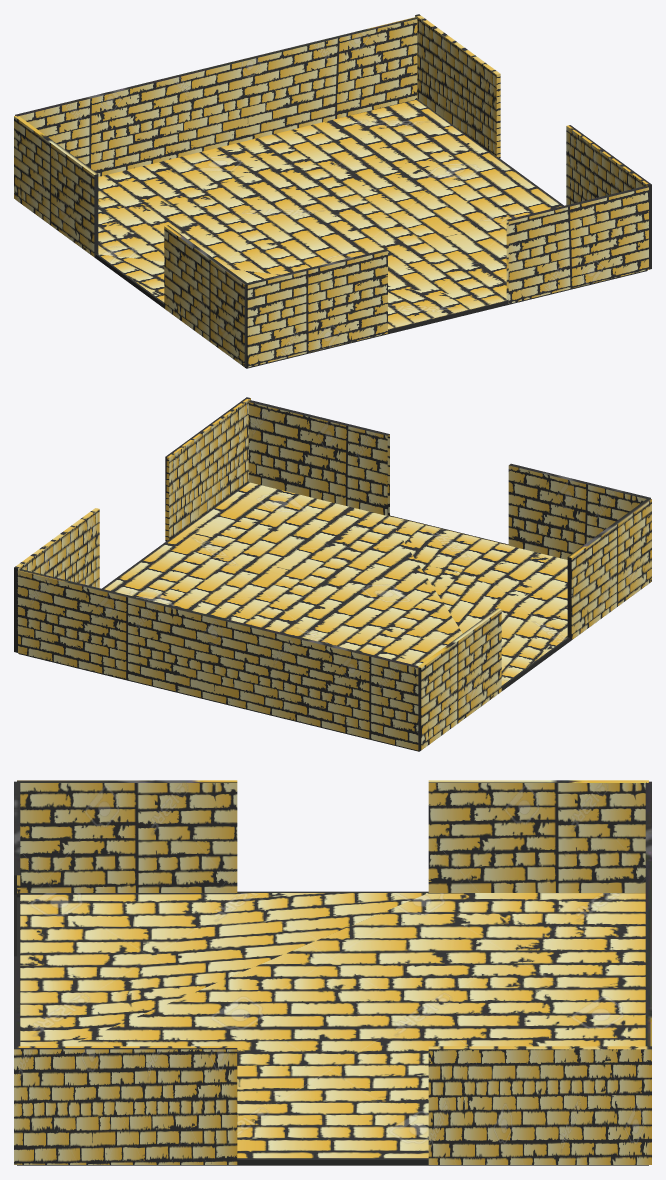
The model's file is habitacion3.fbx.
3 views of the same model, one above another, from view 1: azimuth 30°, elevation 25°; view 2: azimuth 150°, elevation 25°; view 3: azimuth 270°, elevation 25° (orthographic). The views are drawn at different scales.
Visible parts, largest first — view 1: Habitacion; view 2: Habitacion; view 3: Habitacion.
Boxes of the visible parts, bbox=[...] form: Habitacion: bbox=[14, 14, 651, 368]; Habitacion: bbox=[14, 397, 651, 751]; Habitacion: bbox=[14, 780, 651, 1165].
Size of the model in its own units: 1007 by 205 by 1000.
